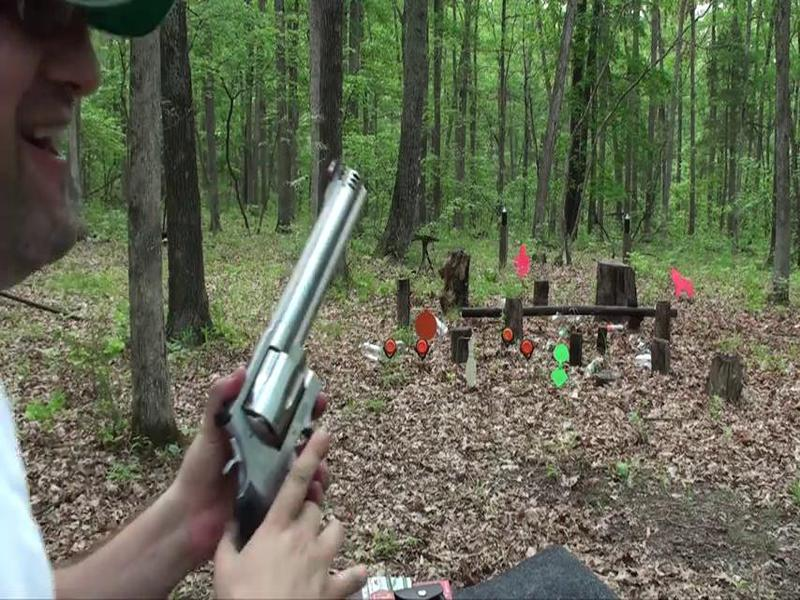Revolver: (213, 148, 387, 552)
